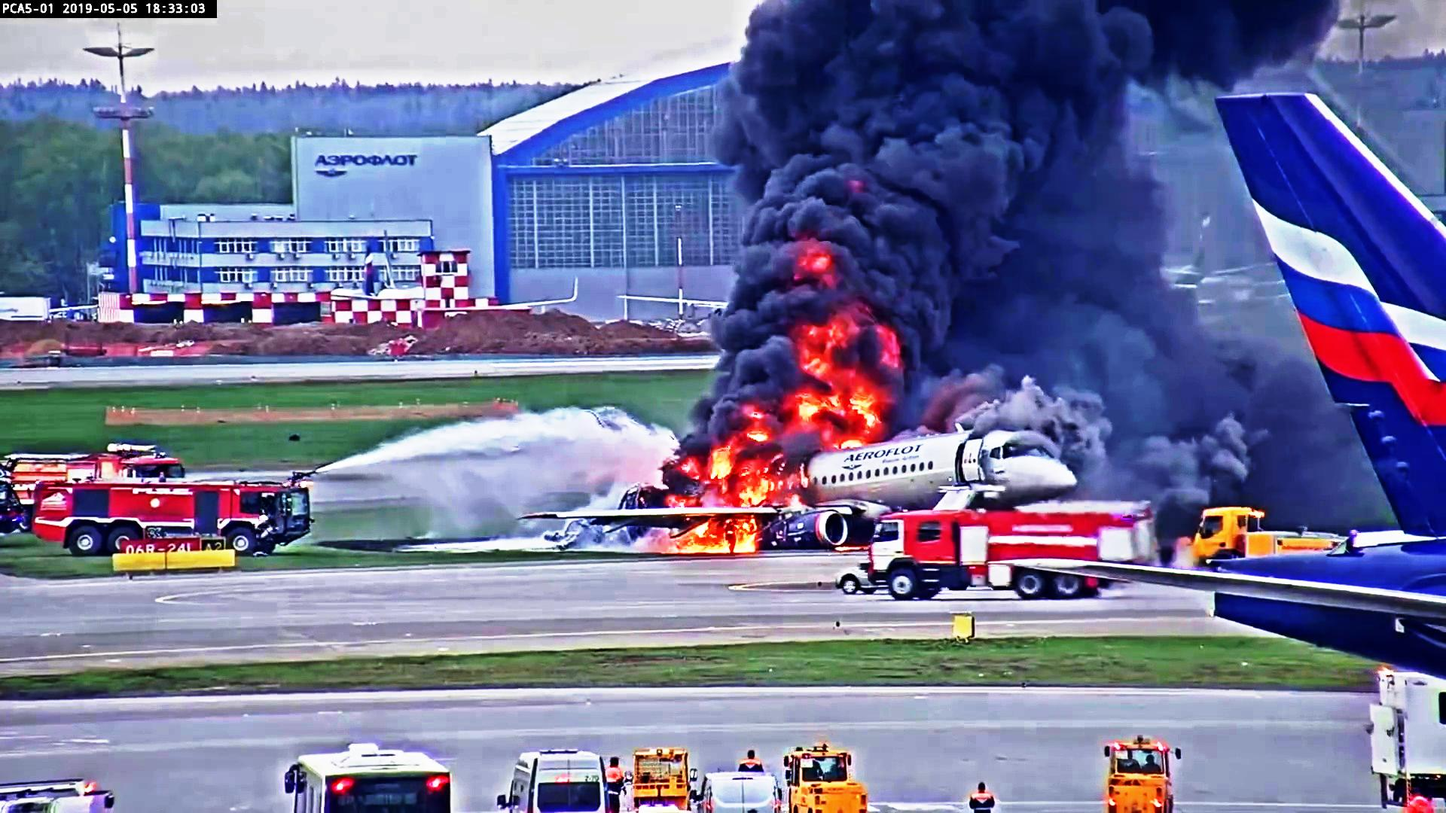smoke: (737, 100, 1023, 273), (740, 0, 1312, 82), (822, 108, 1036, 274), (712, 271, 796, 416), (981, 375, 1103, 451), (1148, 420, 1247, 499)
